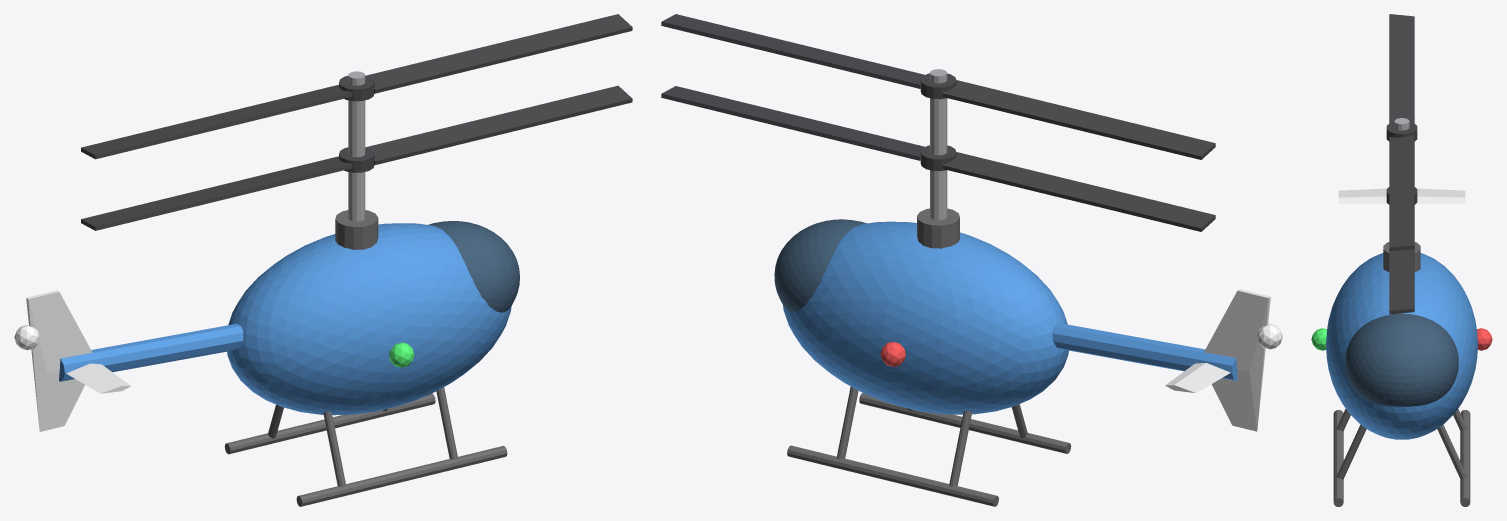
Rendered from smv_coax.glb.
The picture shows the model from 3 angles, left to right: view 1: azimuth 30°, elevation 25°; view 2: azimuth 150°, elevation 25°; view 3: azimuth 270°, elevation 25°; orthographic projection. The views are drawn at different scales.
Parts seen in each view (by area): view 1: coax_v0, rotor_upper_v0, rotor_lower_v0, coax_v3, coax_v2, coax_v1, coax_v10, coax_v7, coax_v5, coax_v6, coax_v4, coax_v11; view 2: coax_v0, rotor_upper_v0, rotor_lower_v0, coax_v3, coax_v2, coax_v1, coax_v7, coax_v10, coax_v5, coax_v6, coax_v4, coax_v8; view 3: coax_v0, coax_v1, rotor_upper_v0, rotor_lower_v0, coax_v4, coax_v7, coax_v10, coax_v9, coax_v12, coax_v6, nav_l_v0, nav_r_v0.
Part boxes in pixels (x1,y1,x2,y2): coax_v0: (227,223,511,415); rotor_upper_v0: (81,14,632,159); rotor_lower_v0: (81,85,632,230); coax_v3: (26,290,92,431); coax_v2: (59,323,243,381); coax_v1: (428,221,519,312); coax_v10: (296,445,507,506); coax_v7: (224,393,435,454); coax_v5: (348,71,365,221); coax_v6: (335,210,378,249); coax_v4: (66,363,131,393); coax_v11: (323,411,345,487); coax_v0: (783,221,1068,414); rotor_upper_v0: (661,14,1215,159); rotor_lower_v0: (661,86,1215,231); coax_v3: (1204,289,1270,431); coax_v2: (1052,323,1237,380); coax_v1: (774,219,866,311); coax_v7: (787,445,998,506); coax_v10: (859,393,1071,453); coax_v5: (930,69,947,220); coax_v6: (917,208,959,248); coax_v4: (1165,363,1230,392); coax_v8: (949,411,971,486); coax_v0: (1326,253,1477,439); coax_v1: (1345,313,1458,406); rotor_upper_v0: (1386,14,1417,251); rotor_lower_v0: (1386,187,1417,314); coax_v4: (1338,188,1465,203); coax_v7: (1460,410,1470,506); coax_v10: (1333,410,1343,506); coax_v9: (1437,424,1467,479); coax_v12: (1336,424,1366,479); coax_v6: (1383,242,1420,271); nav_l_v0: (1477,328,1492,350); nav_r_v0: (1311,328,1326,350).
Size of the model in its own units: 0.98 by 0.5876 by 0.286.
